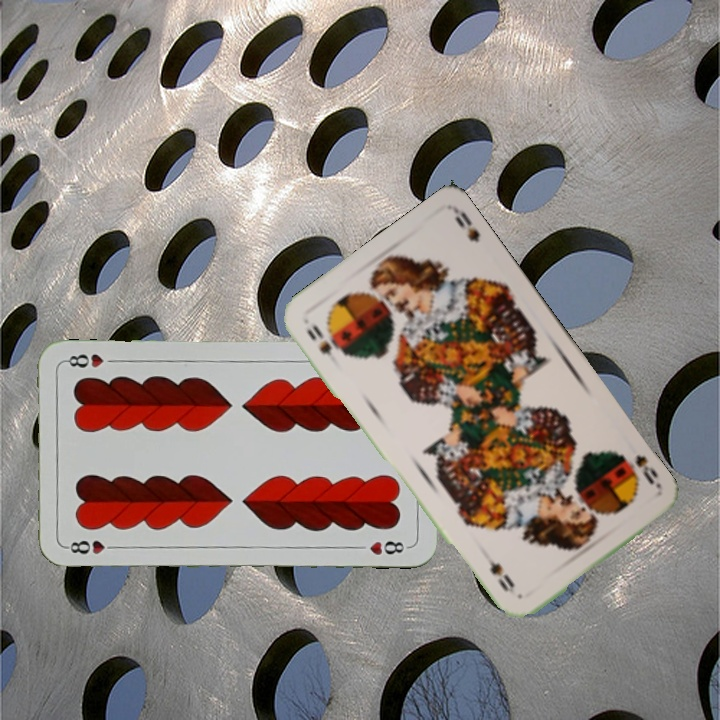H8: (61, 536, 120, 556)
SO: (614, 449, 664, 492), (302, 321, 335, 358)
